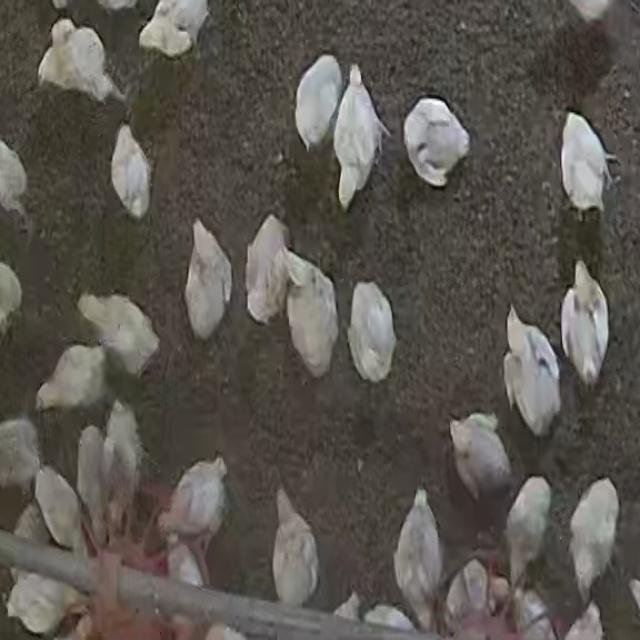chicken: (502, 306, 561, 436), (76, 291, 161, 381), (38, 19, 123, 106), (394, 485, 444, 631), (335, 64, 384, 209), (284, 250, 338, 378), (565, 476, 617, 606), (448, 412, 512, 513), (403, 98, 474, 189), (270, 486, 320, 610), (560, 261, 608, 389), (560, 112, 617, 218), (153, 460, 226, 542), (184, 218, 232, 342), (504, 475, 552, 599), (34, 344, 109, 416), (244, 214, 292, 326), (347, 281, 397, 384), (290, 54, 342, 150), (5, 576, 89, 633), (33, 465, 85, 554), (138, 0, 212, 59), (108, 404, 142, 529), (110, 122, 153, 220), (78, 423, 109, 549), (0, 136, 37, 233), (164, 535, 204, 623), (0, 419, 40, 488), (445, 564, 486, 620), (0, 257, 23, 336)
